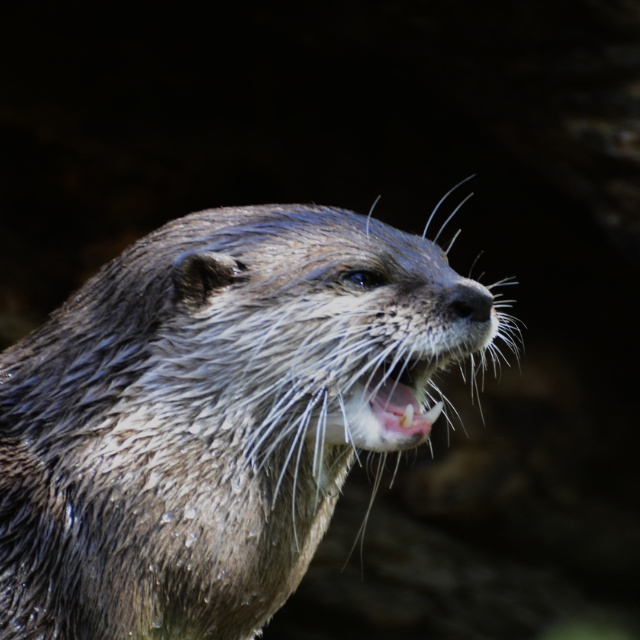Otter: (0, 174, 528, 640)
